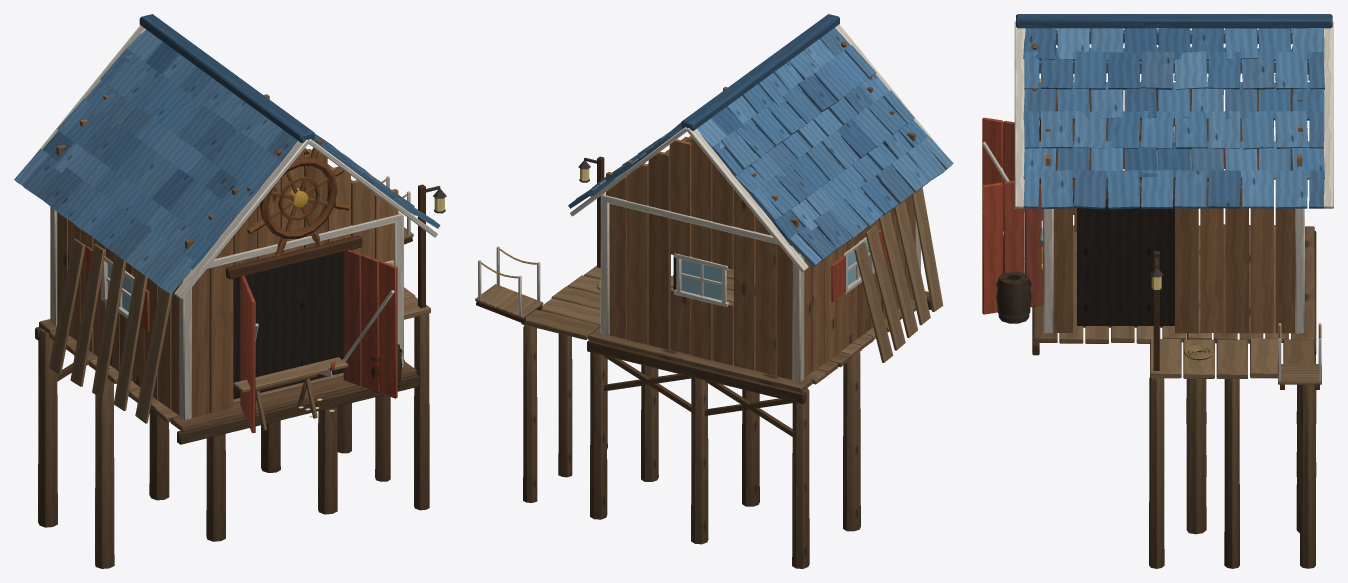
Rendered from shipwright-shed.glb.
3 views of the same model, side by side, from view 1: azimuth 30°, elevation 25°; view 2: azimuth 150°, elevation 25°; view 3: azimuth 270°, elevation 25° (orthographic). The views are drawn at different scales.
Visible parts, largest first — view 1: shipwright-shed; view 2: shipwright-shed; view 3: shipwright-shed.
Part boxes in pixels (x1,y1,x2,y2): shipwright-shed: (14, 14, 446, 568); shipwright-shed: (475, 14, 953, 568); shipwright-shed: (982, 14, 1333, 568).
Size of the model in its own units: 7.13 by 8.08 by 5.6.
Materials: 5 (2 with a texture image).
